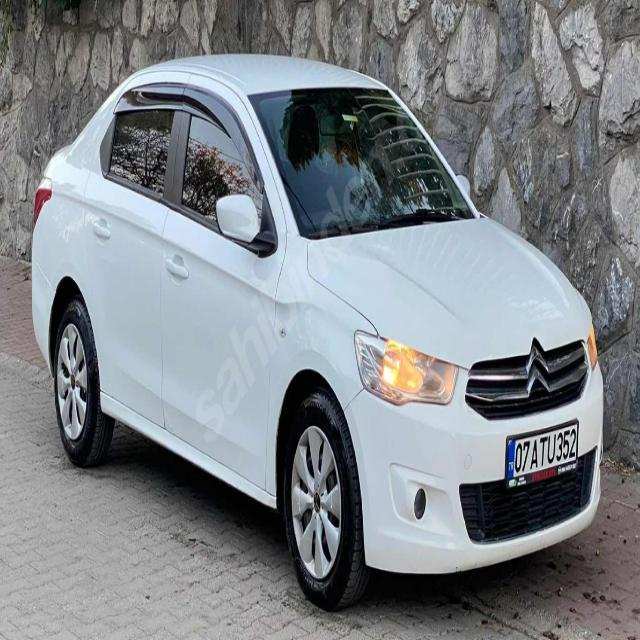citroen: (518, 332, 556, 406)
